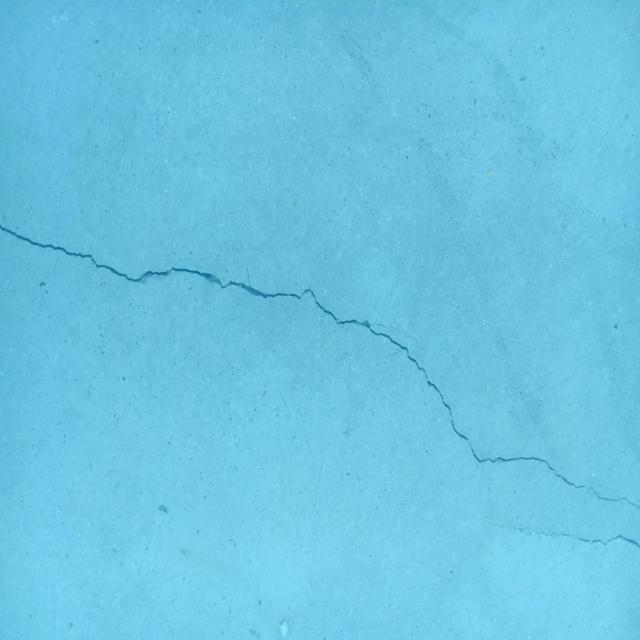crack: (0, 223, 640, 510), (518, 528, 640, 548)
